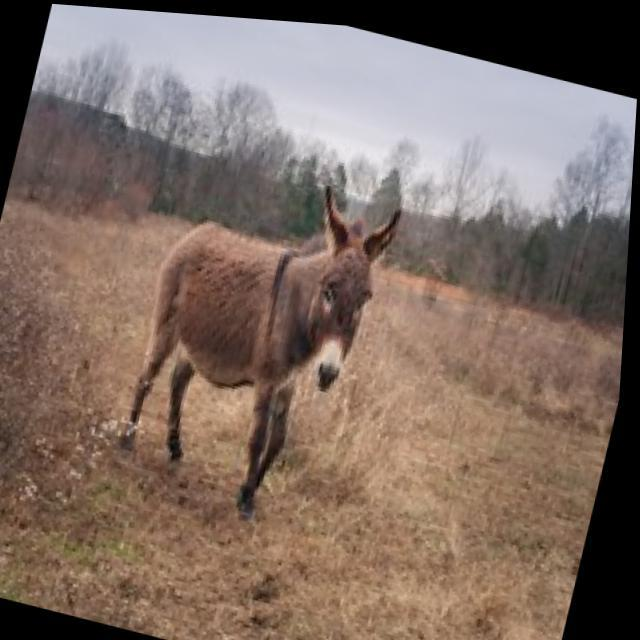Donkey: (112, 141, 410, 536)
